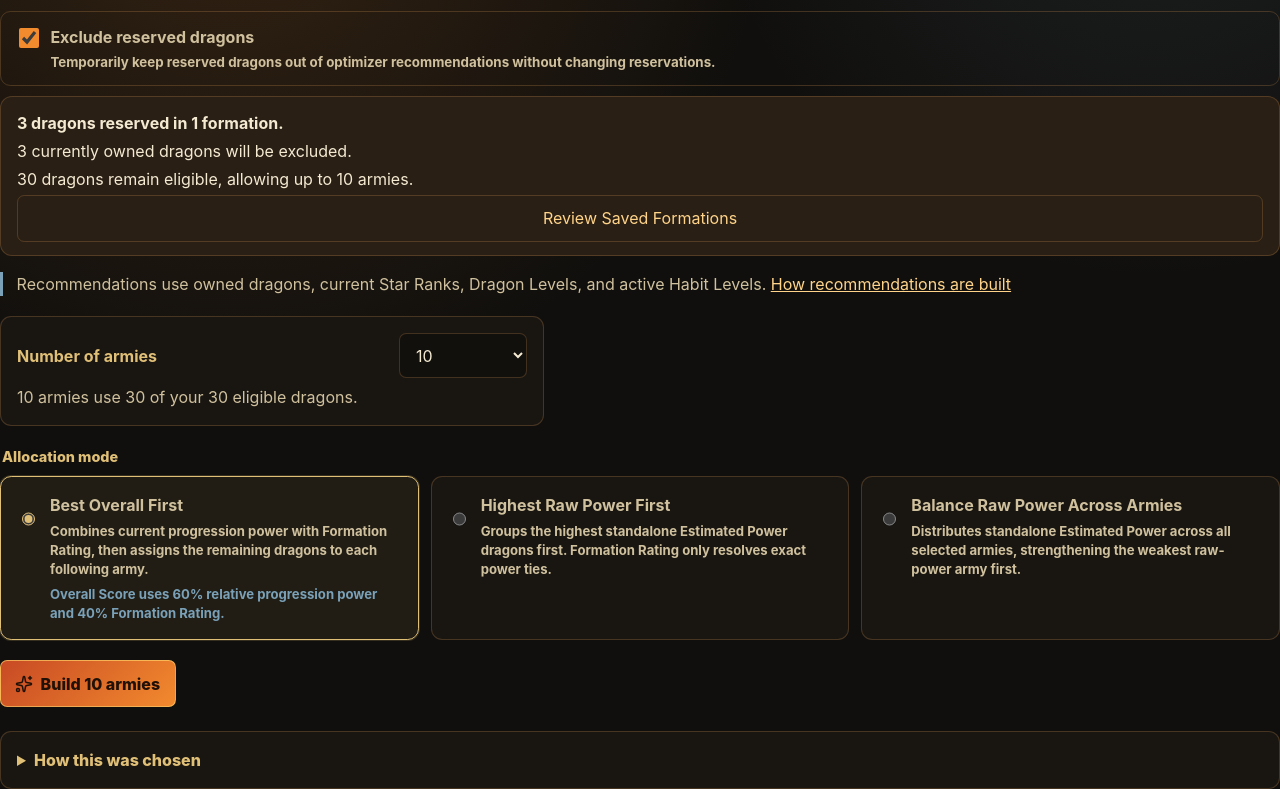
Test: Roster Optimizer v6 workspace › defaults reservation exclusions on, projects the Worker roster, and can temporarily include reservations
(page scrolled)
Expected: the checkbox labelled "Exclude reserved dragons" is checked, [19,28,39,48]
Expected: the text "3 dragons reserved in 1 formation." is shown, [17,113,284,133]
Click the button "Build 10 armies" at (88, 684), box [0,660,176,707]
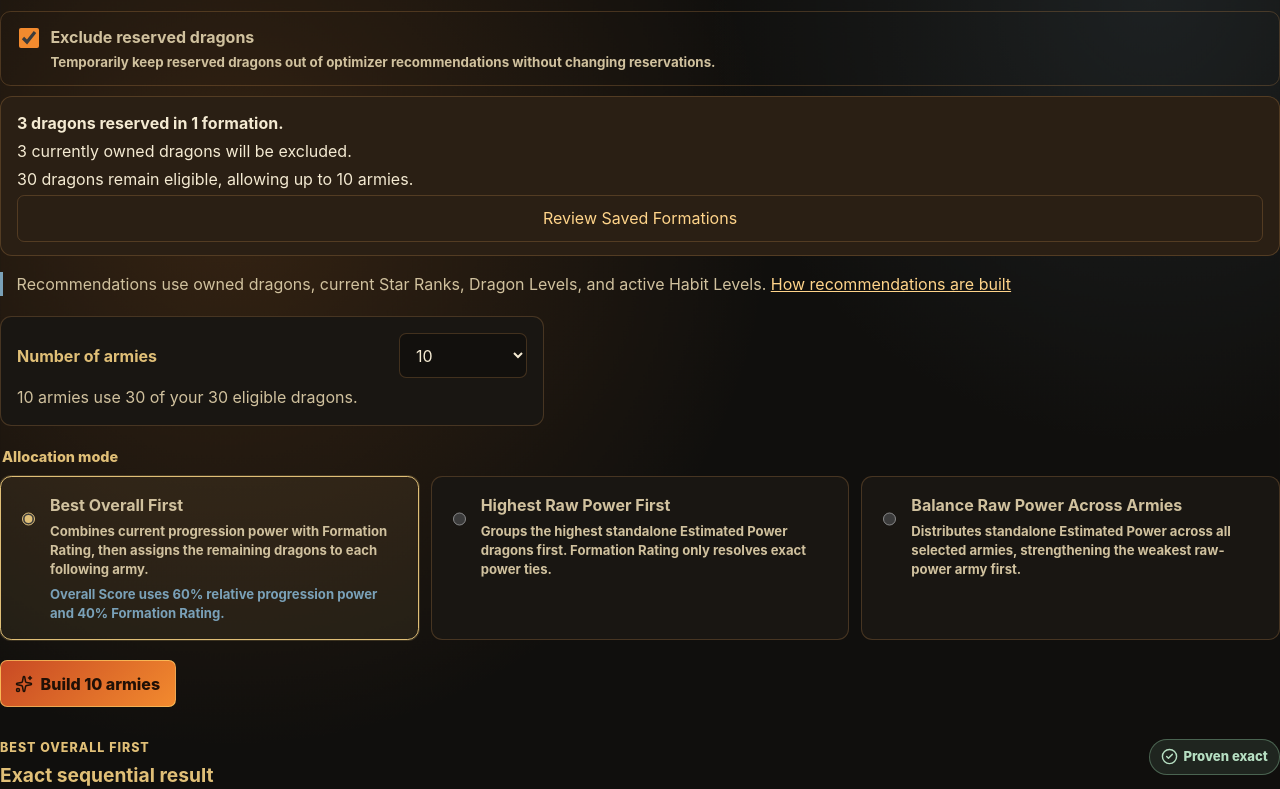
Click the checkbox labelled "Exclude reserved dragons" at (29, 38), box [19,28,39,48]
(page scrolled)
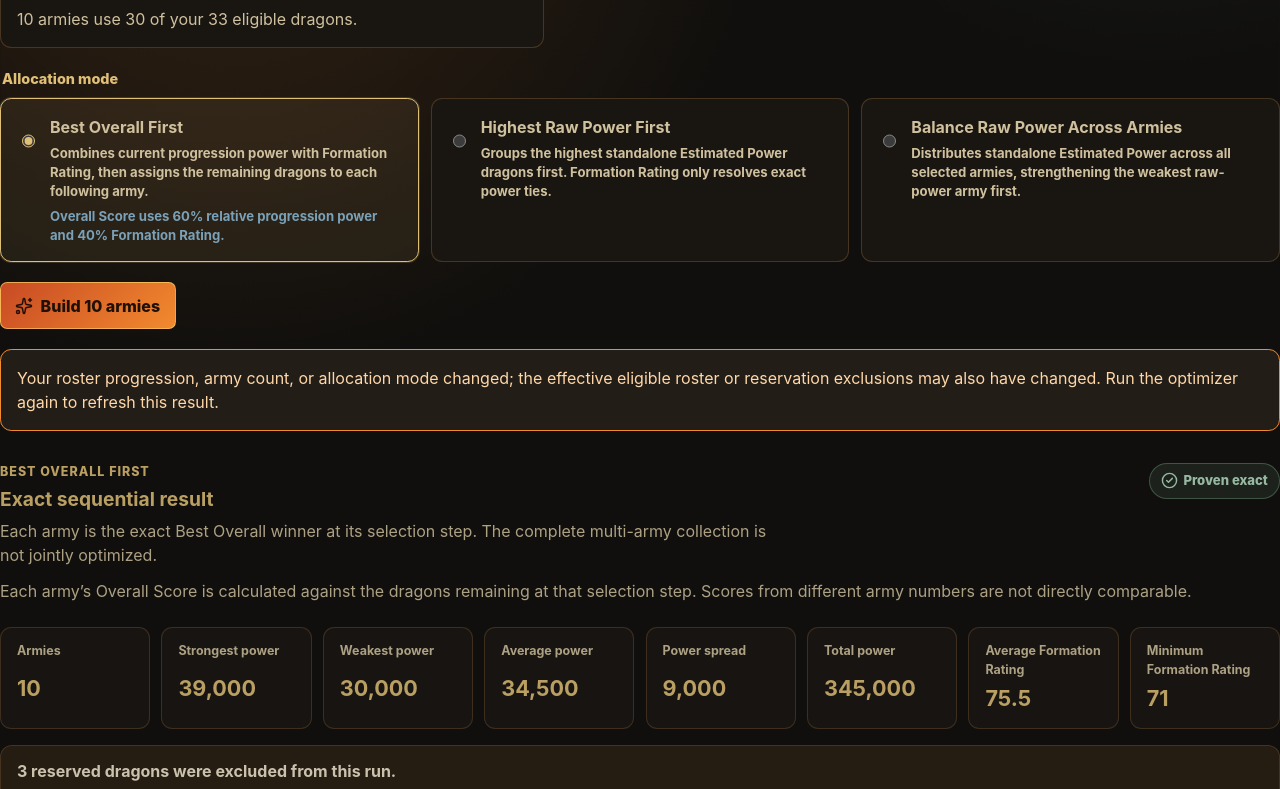
Result: the text "reservation exclusions may also have changed" is shown at [17,368,1238,412]
